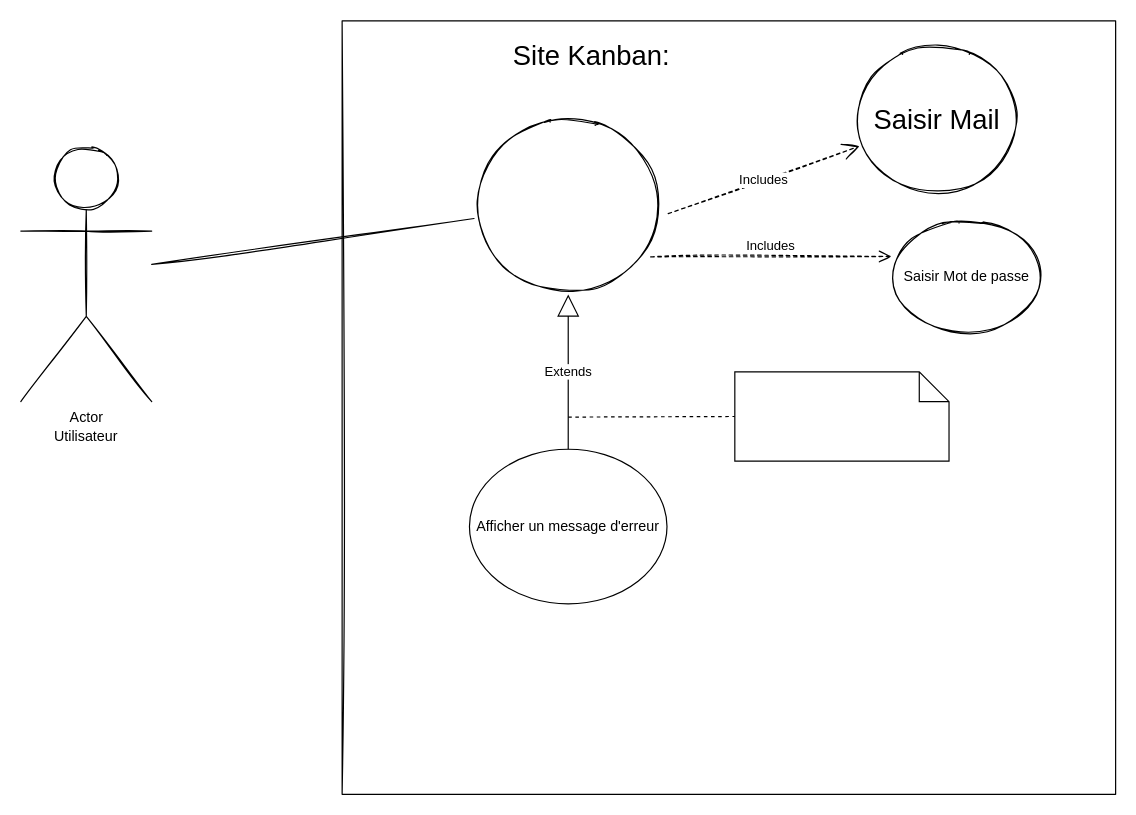
Image size: 1136x815. Some labels were removed from this diagram. Each missing label, with the centre of its shape:
"Condition: Si mot de passe ou mail invalide" goes at [841,416].
"S'enregistrer" goes at [567,205].
